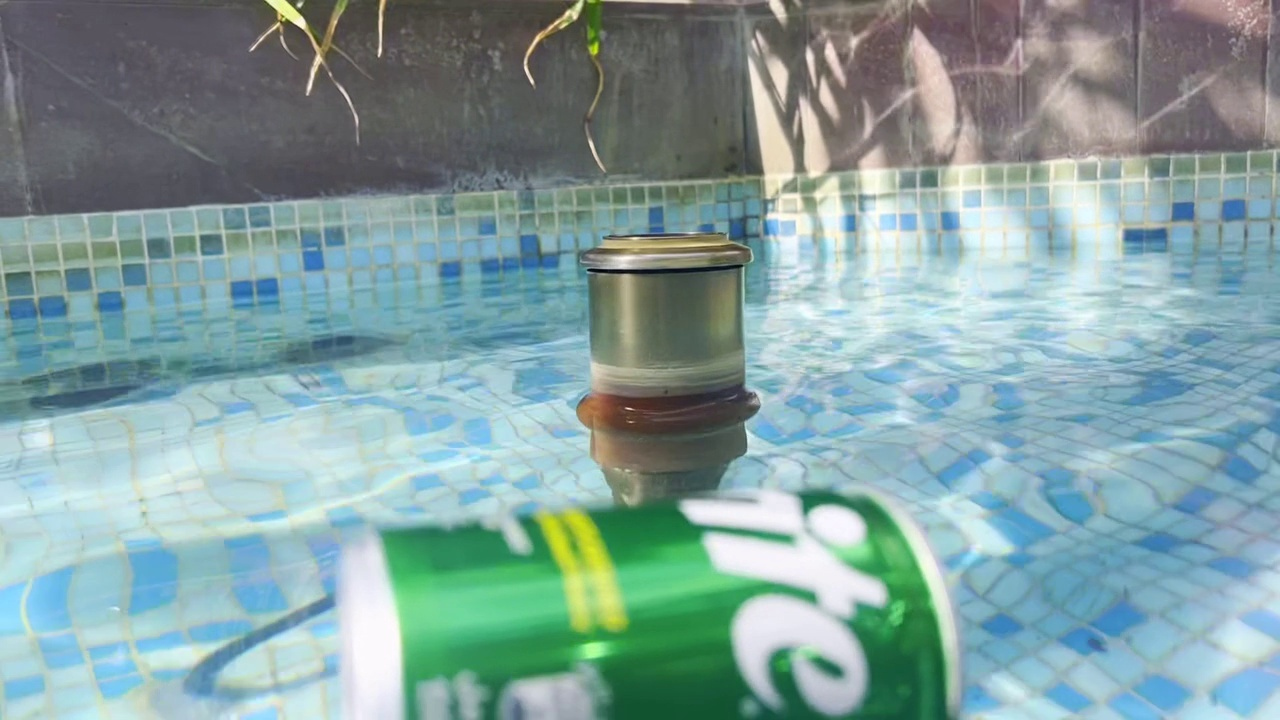debris: (313, 463, 975, 720)
